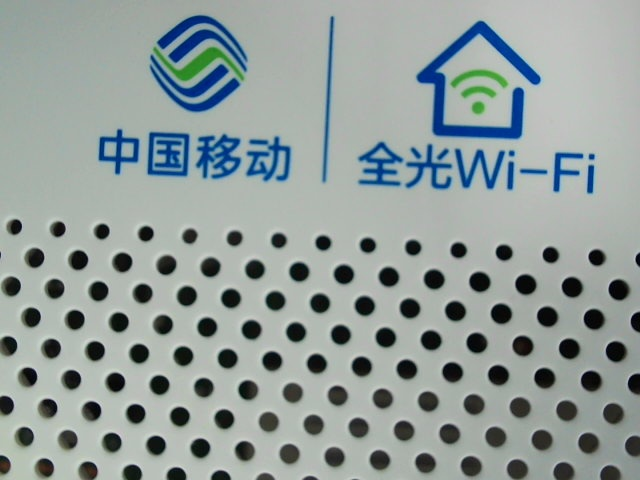BJ_QuanGuangMobile: (93, 7, 605, 202)
